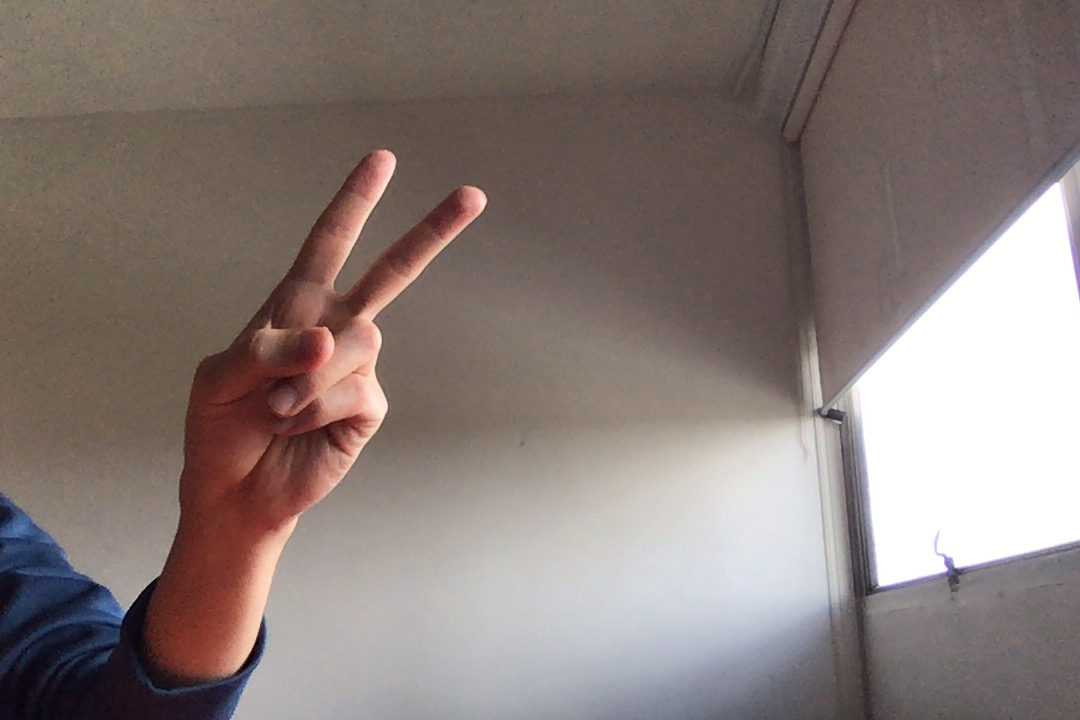peacesign: (172, 137, 495, 535)
